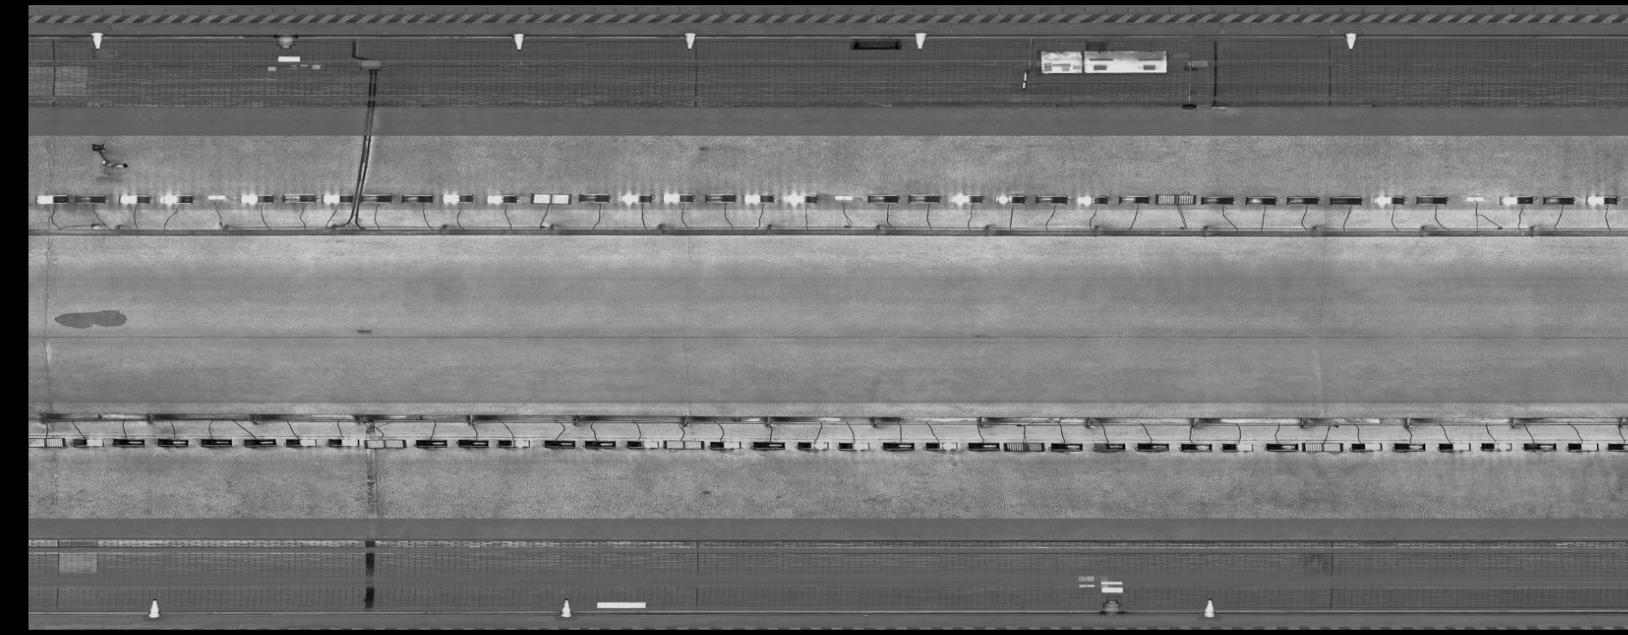light: (360, 434, 410, 451), (528, 189, 575, 208), (999, 437, 1048, 453), (1299, 437, 1345, 454), (781, 188, 821, 208), (1154, 190, 1198, 208), (660, 436, 707, 452), (479, 189, 519, 208), (1346, 437, 1387, 454), (437, 189, 476, 208), (618, 188, 656, 206), (29, 433, 67, 451), (1133, 437, 1172, 454), (1217, 437, 1255, 454), (1434, 437, 1474, 453), (1520, 438, 1561, 454), (1564, 438, 1604, 454), (1495, 191, 1538, 206), (1090, 438, 1128, 455), (156, 191, 195, 208), (318, 188, 357, 204), (749, 436, 788, 452), (1261, 438, 1301, 454), (1196, 192, 1238, 208), (1240, 192, 1281, 208), (920, 437, 961, 452), (701, 189, 739, 205), (793, 436, 832, 452), (739, 190, 777, 206), (1326, 192, 1365, 208), (1368, 192, 1408, 208), (1411, 192, 1450, 208), (707, 436, 747, 451), (237, 190, 278, 204), (576, 189, 613, 205), (66, 434, 108, 448), (540, 436, 581, 450), (948, 191, 986, 206), (1073, 192, 1111, 208), (1284, 192, 1323, 208), (453, 436, 493, 450), (833, 438, 873, 452), (1583, 191, 1619, 208), (1391, 438, 1427, 454), (1115, 191, 1152, 206), (1477, 438, 1515, 453), (278, 189, 318, 203), (240, 435, 279, 449), (412, 436, 452, 450), (494, 436, 534, 450), (964, 438, 1003, 452), (1178, 438, 1213, 454), (1047, 439, 1088, 452), (879, 438, 918, 452), (660, 190, 696, 205), (69, 192, 109, 205), (108, 435, 148, 448), (195, 435, 236, 448), (864, 191, 901, 205), (905, 191, 943, 205), (1541, 193, 1578, 208), (624, 436, 661, 450), (283, 435, 320, 449), (582, 436, 619, 450), (32, 192, 71, 205), (115, 192, 154, 205), (398, 191, 436, 204), (992, 191, 1027, 205), (1033, 192, 1070, 205), (154, 435, 191, 448), (324, 435, 361, 448), (357, 192, 397, 204), (1605, 437, 1628, 451), (1462, 193, 1488, 203), (831, 193, 856, 201), (202, 191, 229, 198)
